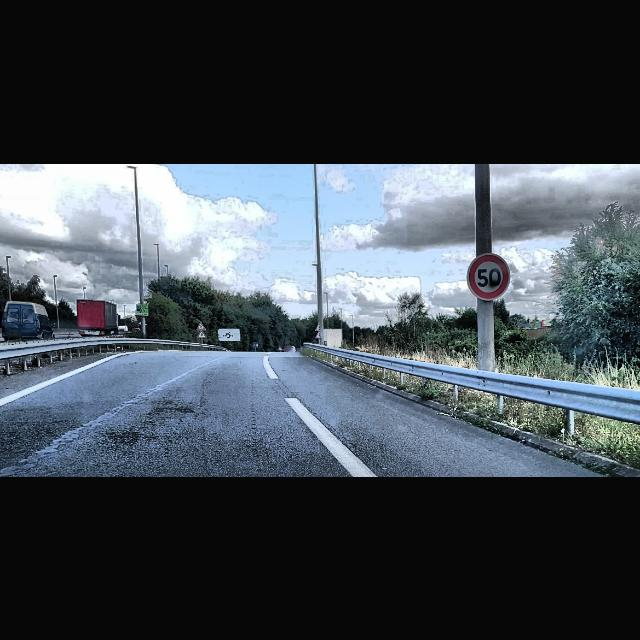speed_50: (468, 254, 509, 300)
